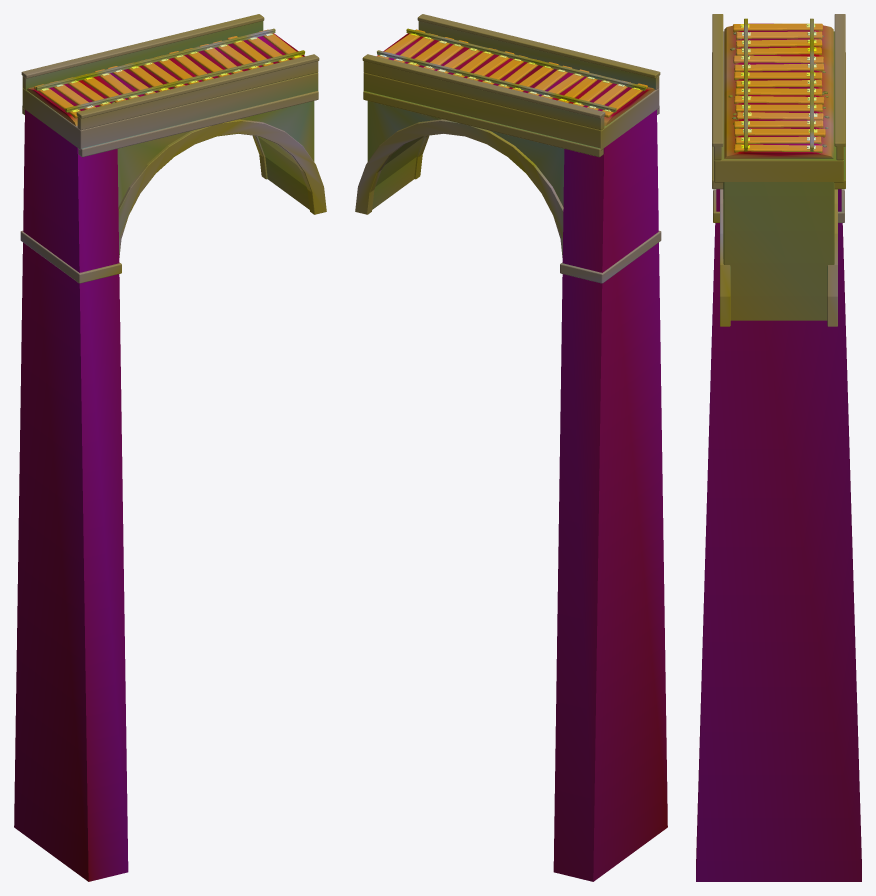
Rendered from Track_Bridge_Viaduct_12m.fbx.
The picture shows the model from 3 angles, left to right: view 1: azimuth 30°, elevation 25°; view 2: azimuth 150°, elevation 25°; view 3: azimuth 270°, elevation 25°; orthographic projection. The views are drawn at different scales.
Visible parts, largest first — view 1: Track_Bridge_Viaduct_12m; view 2: Track_Bridge_Viaduct_12m; view 3: Track_Bridge_Viaduct_12m.
Boxes of the visible parts, x1,y1,x2,y2 form: Track_Bridge_Viaduct_12m: [14, 14, 326, 881]; Track_Bridge_Viaduct_12m: [355, 14, 667, 881]; Track_Bridge_Viaduct_12m: [696, 14, 861, 881].
Bounding box in the file's own units: 12.63 × 36.64 × 6.5.
